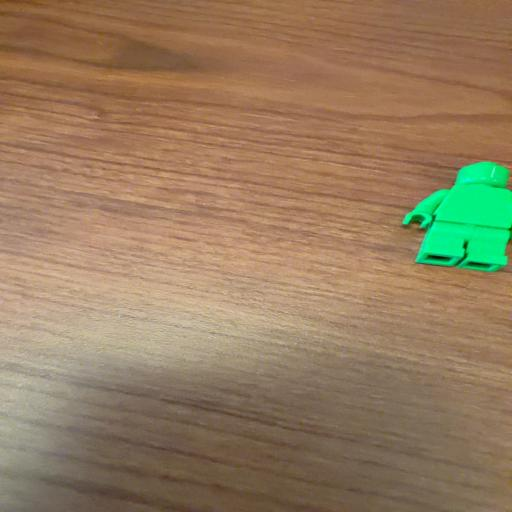UnoQ-minifig-detector: (402, 162, 512, 272)
